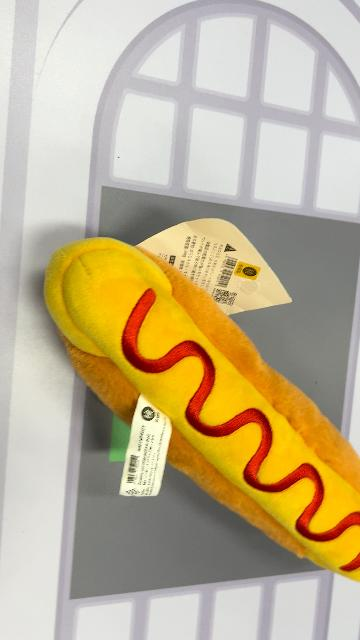hotdog: (43, 235, 359, 583)
